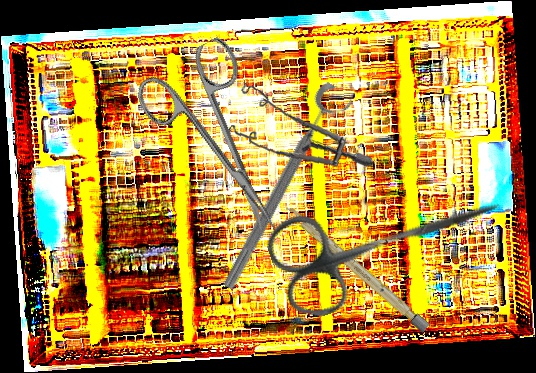Fixation Ring: (216, 79, 358, 300)
Iris Scissors: (260, 151, 515, 327), (128, 33, 312, 256)
Scalpel Handle: (282, 202, 431, 334)
Speculum: (221, 70, 374, 182)
